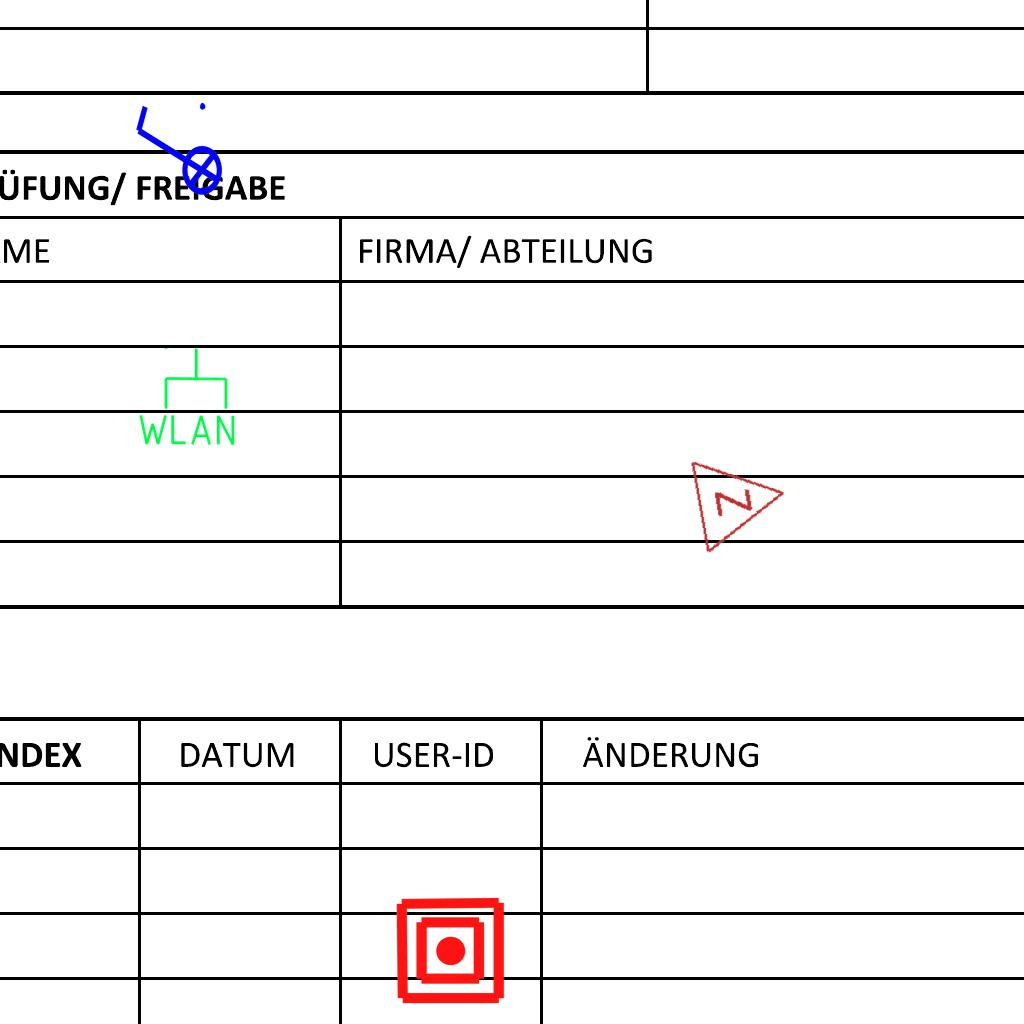Ausschalter_beleuchtet: (128, 97, 224, 209)
NAM-Nichtautomatischer_Melder: (394, 894, 507, 1007)
WLAN: (134, 345, 239, 449)
Zimmersignalleuchte: (683, 442, 799, 556)
